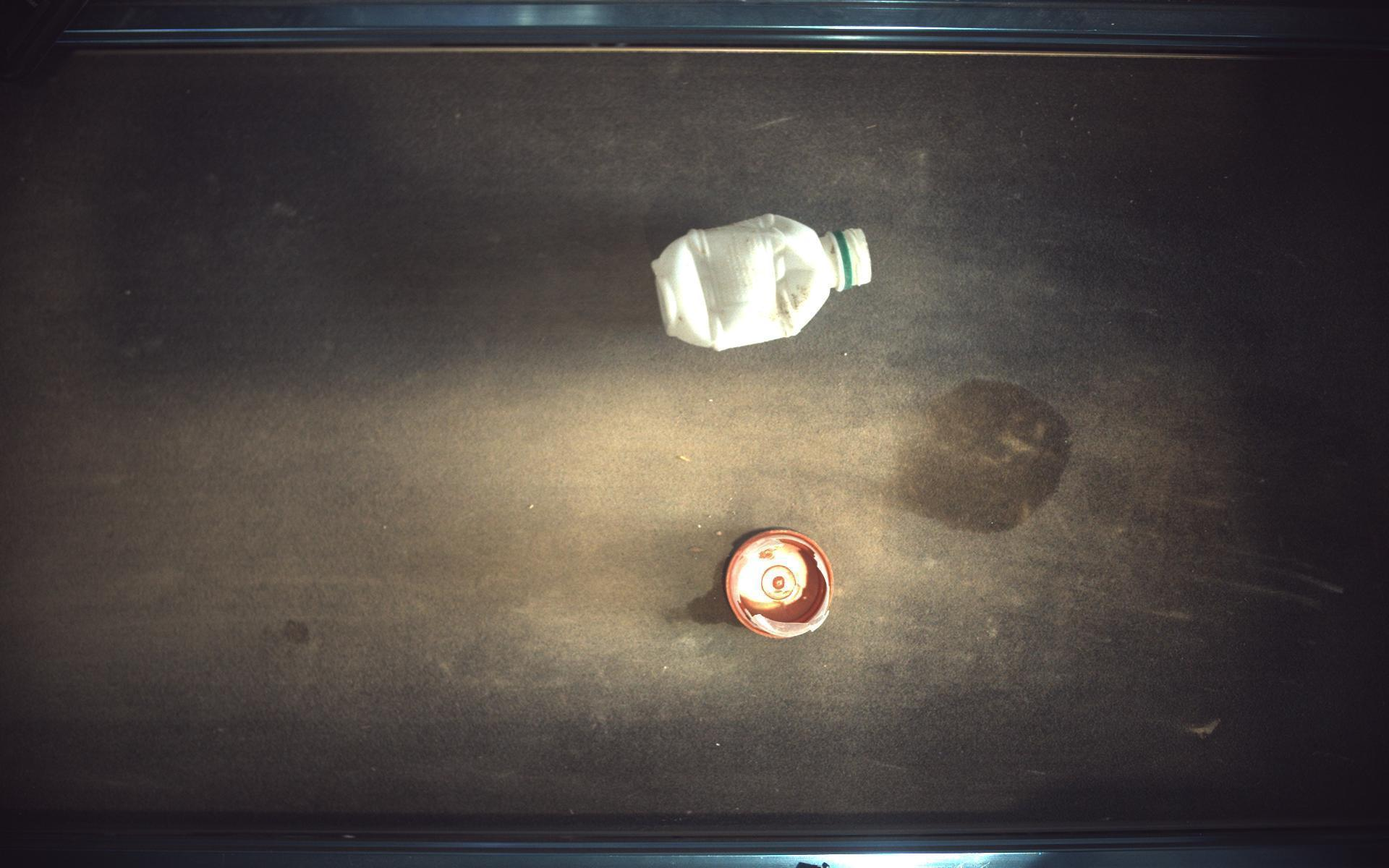general_w: (653, 213, 873, 351), (726, 529, 835, 639)
